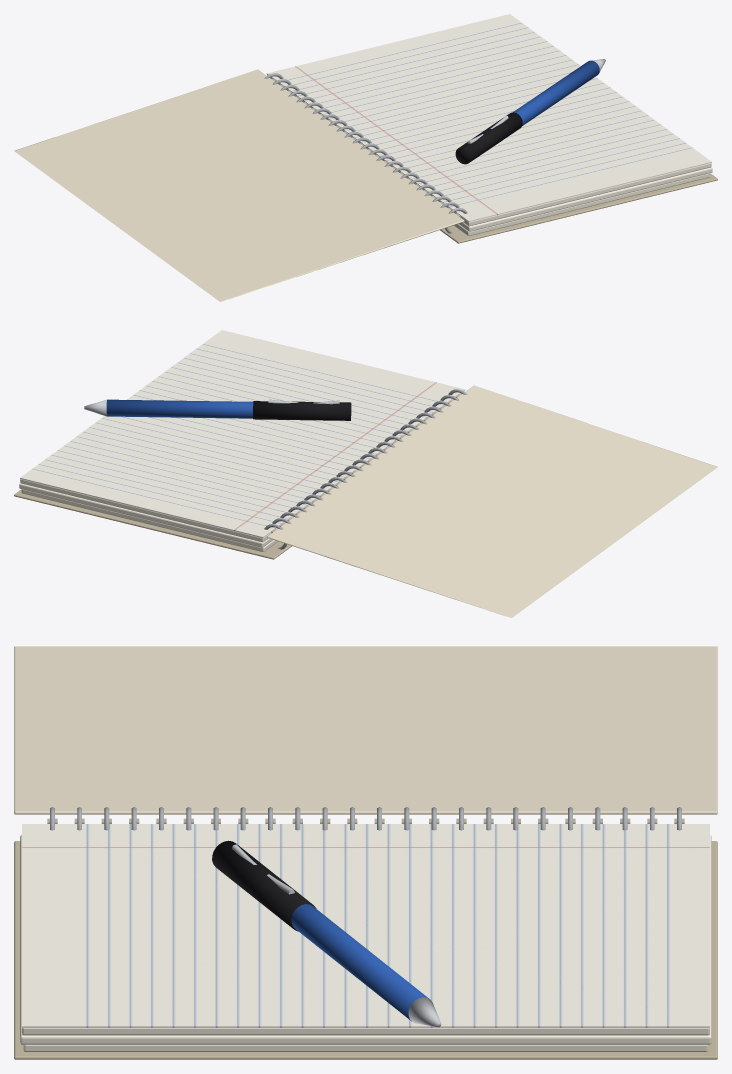
The model's file is notebook.glb.
3 renders of one model, top to bottom at view 1: azimuth 30°, elevation 25°; view 2: azimuth 150°, elevation 25°; view 3: azimuth 270°, elevation 25°, orthographic. The views are drawn at different scales.
Parts seen in each view (by area): view 1: cover, pages, pen, spiral; view 2: cover, pages, pen, spiral; view 3: pages, cover, pen, spiral.
Boxes of the visible parts, x1,y1,x2,y2 form: cover: (14, 69, 717, 301); pages: (266, 14, 712, 235); pen: (455, 59, 605, 164); spiral: (264, 73, 467, 233); cover: (14, 385, 717, 617); pages: (19, 330, 465, 551); pen: (84, 399, 351, 420); spiral: (264, 389, 467, 549); pages: (20, 818, 711, 1051); cover: (14, 646, 717, 1059); pen: (212, 840, 441, 1027); spiral: (50, 807, 681, 830).
Size of the model in its own units: 0.3134 by 0.0221 by 0.22.
Materials: 8 (1 with a texture image).
